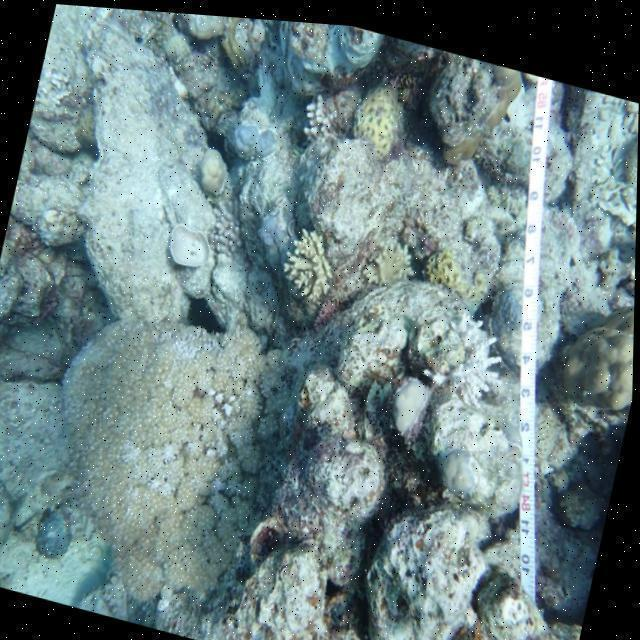Bleached Coral: (397, 288, 528, 436), (291, 66, 344, 156)
Healthy Coral: (94, 327, 275, 572)
